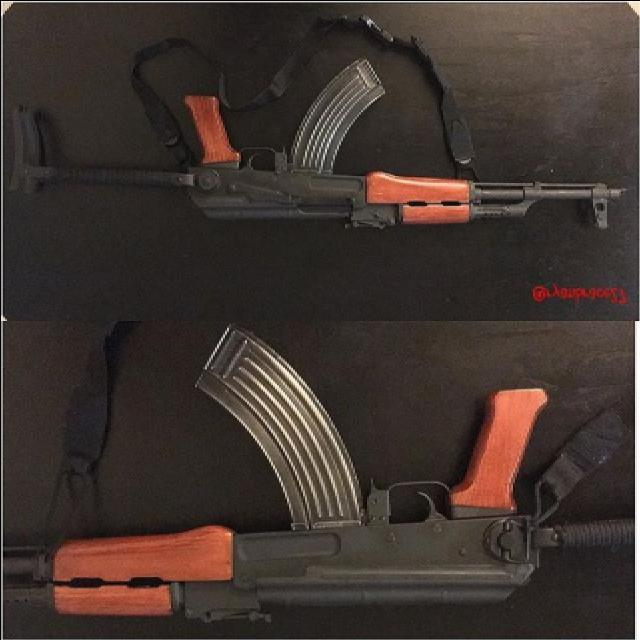rifle: (1, 333, 631, 630), (3, 58, 629, 236)
